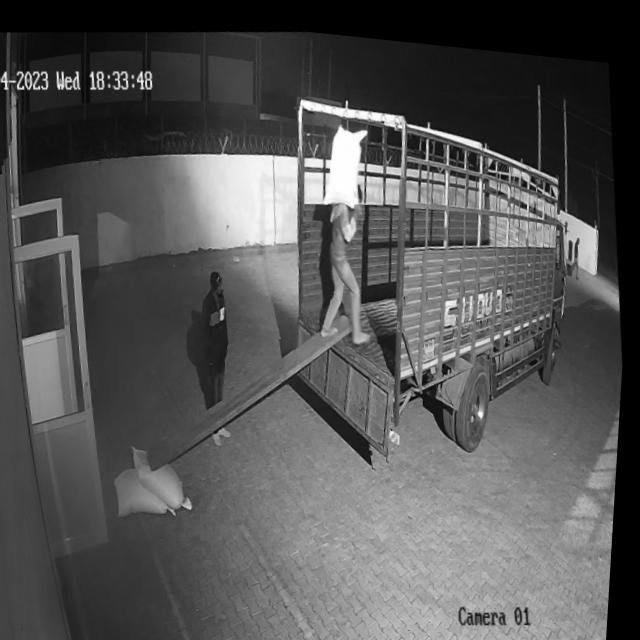sack: (315, 111, 377, 206), (133, 435, 203, 513), (116, 459, 184, 519)
